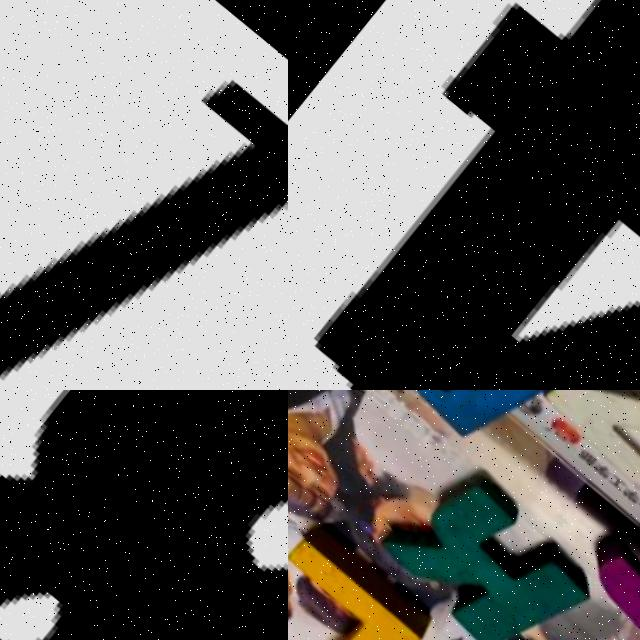8: (0, 390, 288, 640)
K: (356, 454, 588, 640)
L: (288, 501, 451, 640)
P: (320, 390, 569, 463)
S: (555, 479, 640, 640)
T: (0, 0, 288, 390)
Z: (515, 390, 640, 539)
